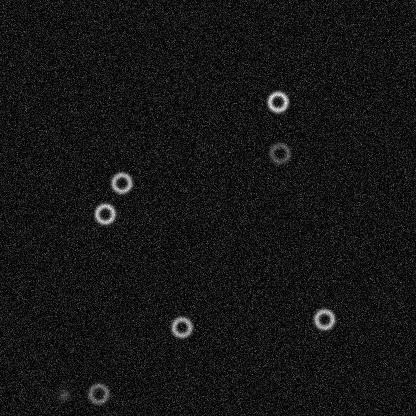Ring: (92, 201, 116, 225), (86, 381, 110, 405), (169, 315, 193, 339), (109, 170, 133, 194), (312, 307, 336, 331), (265, 89, 289, 113), (267, 141, 291, 165)
Spot: (56, 386, 72, 402)
